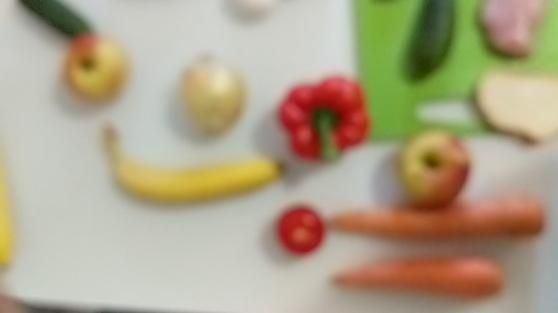apple: (395, 122, 474, 205), (63, 35, 132, 102)
banana: (106, 130, 285, 205)
carrot: (331, 252, 515, 306), (334, 202, 547, 245)
chicken_fillet: (474, 1, 546, 58)
cucumber: (410, 1, 460, 81)
onion: (177, 53, 247, 140)
pepper: (282, 74, 370, 162)
tomato: (281, 203, 325, 253)
white_bread: (472, 69, 558, 146)
